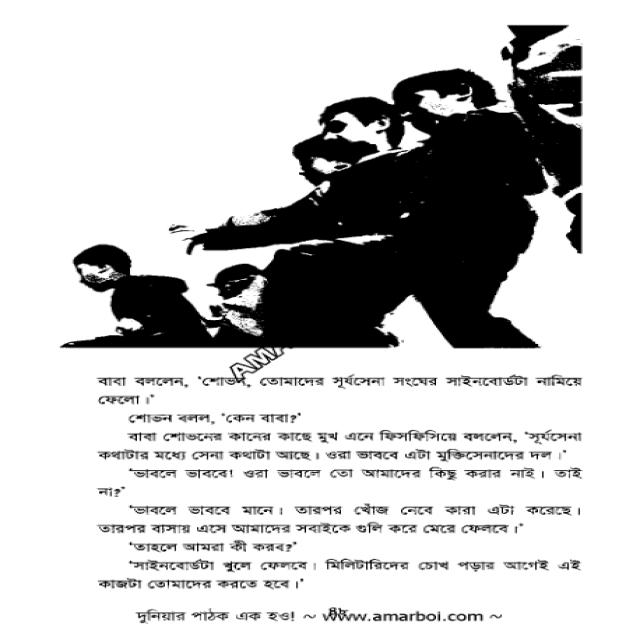image: (47, 8, 588, 350)
page number: (322, 604, 353, 615)
paragraph: (93, 552, 585, 593), (86, 370, 591, 408), (94, 426, 590, 464), (91, 500, 587, 538), (93, 463, 588, 501), (127, 537, 294, 556), (122, 410, 297, 427)
text: (132, 605, 299, 627), (321, 606, 493, 627)
